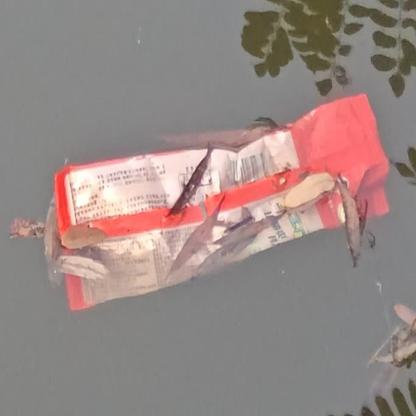plastic bag: (50, 94, 391, 309)
